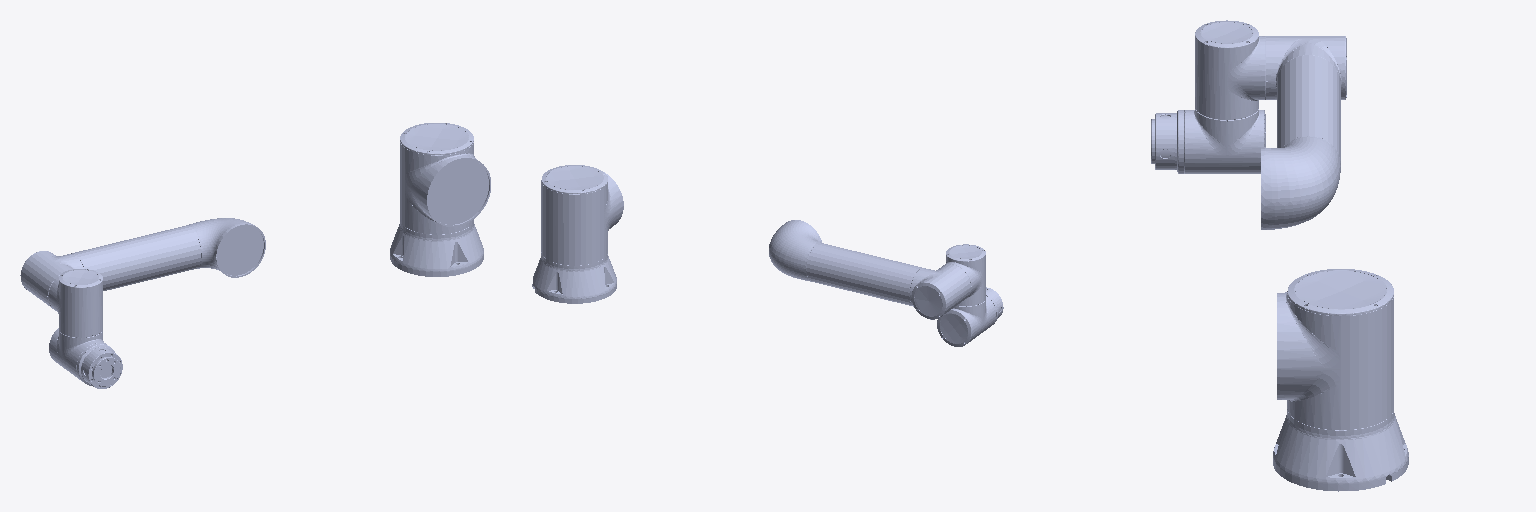
URDF robot description (fr16v6):
<robot name="fr16v6">

  <link name="world"/>

  <joint name="world_to_base" type="fixed">
    <parent link="world"/>
    <child link="base_link"/>
    <origin xyz="0 0 0" rpy="0 0 0"/>
  </joint>
<link
    name="base_link">
    <inertial>
      <origin
        xyz="-0.00017171 -0.00016075 0.041272"
        rpy="0 0 0" />
      <mass
        value="1.6231" />
      <inertia
        ixx="0.0039513"
        ixy="1.1032E-05"
        ixz="-1.0078E-05"
        iyy="0.0039509"
        iyz="-9.408E-06"
        izz="0.0063729" />
    </inertial>
    <visual>
      <origin
        xyz="0 0 0"
        rpy="0 0 0" />
      <geometry>
        <mesh
          filename="package://fr16v6_ros2_control/meshes/fr16/visual-v6.0/base_link.DAE" />
      </geometry>
      <material
        name="">
        <color
          rgba="0.79216 0.81961 0.93333 1" />
      </material>
    </visual>
    <collision>
      <origin
        xyz="0 0 0"
        rpy="0 0 0" />
      <geometry>
        <mesh
          filename="package://fr16v6_ros2_control/meshes/fr16/collision-v6.0/base_link.STL" />
      </geometry>
    </collision>
  </link>
  <link
    name="j1_Link">
    <inertial>
      <origin
        xyz="-0.0001 -0.02612 0.00404"
        rpy="0 0 0" />
      <mass
        value="11.97" />
      <inertia
        ixx="0.04607471"
        ixy="-0.00001041"
        ixz="-0.00009371"
        iyy="0.03493881"
        iyz="0.00133107"
        izz="0.04467851" />
    </inertial>
    <visual>
      <origin
        xyz="0 0 0"
        rpy="0 0 0" />
      <geometry>
        <mesh
          filename="package://fr16v6_ros2_control/meshes/fr16/visual-v6.0/j1_Link.DAE" />
      </geometry>
      <material
        name="">
        <color
          rgba="0.79216 0.81961 0.93333 1" />
      </material>
    </visual>
    <collision>
      <origin
        xyz="0 0 0"
        rpy="0 0 0" />
      <geometry>
        <mesh
          filename="package://fr16v6_ros2_control/meshes/fr16/collision-v6.0/j1_Link.STL" />
      </geometry>
    </collision>
  </link>
  <joint
    name="j1"
    type="revolute">
    <origin
      xyz="0 0 0"
      rpy="0 0 0" />
    <parent
      link="base_link" />
    <child
      link="j1_Link" />
    <axis
      xyz="0 0 1" />
    <limit
      lower="-3.0543"
      upper="3.0543"
      effort="635"
      velocity="3.15" />
    <calibration
      rising="0"
      falling="0" />
    <dynamics
      damping="0"
      friction="0" />
    <safety_controller
      soft_upper="0"
      soft_lower="0"
      k_position="0"
      k_velocity="0" />
  </joint>
  <link
    name="j2_Link">
    <inertial>
      <origin
        xyz="0.3604 0.00001 0.16309"
        rpy="0 0 0" />
      <mass
        value="18.18" />
      <inertia
        ixx="0.06025003"
        ixy="0.00036953"
        ixz="-0.01793051"
        iyy="0.97964166"
        iyz="-0.00005647"
        izz="0.96595344" />
    </inertial>
    <visual>
      <origin
        xyz="0 0 0"
        rpy="0 0 0" />
      <geometry>
        <mesh
          filename="package://fr16v6_ros2_control/meshes/fr16/visual-v6.0/j2_Link.DAE" />
      </geometry>
      <material
        name="">
        <color
          rgba="0.79216 0.81961 0.93333 1" />
      </material>
    </visual>
    <collision>
      <origin
        xyz="0 0 0"
        rpy="0 0 0" />
      <geometry>
        <mesh
          filename="package://fr16v6_ros2_control/meshes/fr16/collision-v6.0/j2_Link.STL" />
      </geometry>
    </collision>
  </link>
  <joint
    name="j2"
    type="revolute">
    <origin
      xyz="0 0 0.18"
      rpy="1.5708 0 0" />
    <parent
      link="j1_Link" />
    <child
      link="j2_Link" />
    <axis
      xyz="0 0 1" />
    <limit
      lower="-4.6251"
      upper="1.4835"
      effort="635"
      velocity="3.15" />
    <calibration
      rising="0"
      falling="0" />
    <dynamics
      damping="0"
      friction="0" />
    <safety_controller
      soft_upper="0"
      soft_lower="0"
      k_position="0"
      k_velocity="0" />
  </joint>
  <link
    name="j3_Link">
    <inertial>
      <origin
        xyz="0.13503 0.00012 0.05558"
        rpy="0 0 0" />
      <mass
        value="3.22" />
      <inertia
        ixx="0.00548752"
        ixy="0.00004221"
        ixz="0.00077648"
        iyy="0.08650512"
        iyz="0.0000072"
        izz="0.08588861" />
    </inertial>
    <visual>
      <origin
        xyz="0 0 0"
        rpy="0 0 0" />
      <geometry>
        <mesh
          filename="package://fr16v6_ros2_control/meshes/fr16/visual-v6.0/j3_Link.DAE" />
      </geometry>
      <material
        name="">
        <color
          rgba="0.79216 0.81961 0.93333 1" />
      </material>
    </visual>
    <collision>
      <origin
        xyz="0 0 0"
        rpy="0 0 0" />
      <geometry>
        <mesh
          filename="package://fr16v6_ros2_control/meshes/fr16/collision-v6.0/j3_Link.STL" />
      </geometry>
    </collision>
  </link>
  <joint
    name="j3"
    type="revolute">
    <origin
      xyz="-0.52 0 0"
      rpy="0 0 0" />
    <parent
      link="j2_Link" />
    <child
      link="j3_Link" />
    <axis
      xyz="0 0 1" />
    <limit
      lower="-2.8274"
      upper="2.8274"
      effort="332"
      velocity="3.15" />
    <calibration
      rising="0"
      falling="0" />
    <dynamics
      damping="0"
      friction="0" />
    <safety_controller
      soft_upper="0"
      soft_lower="0"
      k_position="0"
      k_velocity="0" />
  </joint>
  <link
    name="j4_Link">
    <inertial>
      <origin
        xyz="0.00012 -0.003 0.01218"
        rpy="0 0 0" />
      <mass
        value="1.69" />
      <inertia
        ixx="0.00248058"
        ixy="0.00001495"
        ixz="0.00002165"
        iyy="0.00239729"
        iyz="-0.00007228"
        izz="0.00180628" />
    </inertial>
    <visual>
      <origin
        xyz="0 0 0"
        rpy="0 0 0" />
      <geometry>
        <mesh
          filename="package://fr16v6_ros2_control/meshes/fr16/visual-v6.0/j4_Link.DAE" />
      </geometry>
      <material
        name="">
        <color
          rgba="0.79216 0.81961 0.93333 1" />
      </material>
    </visual>
    <collision>
      <origin
        xyz="0 0 0"
        rpy="0 0 0" />
      <geometry>
        <mesh
          filename="package://fr16v6_ros2_control/meshes/fr16/collision-v6.0/j4_Link.STL" />
      </geometry>
    </collision>
  </link>
  <joint
    name="j4"
    type="revolute">
    <origin
      xyz="-0.4 0 0"
      rpy="0 0 0" />
    <parent
      link="j3_Link" />
    <child
      link="j4_Link" />
    <axis
      xyz="0 0 1" />
    <limit
      lower="-4.6251"
      upper="1.4835"
      effort="110"
      velocity="3.2" />
    <calibration
      rising="0"
      falling="0" />
    <dynamics
      damping="0"
      friction="0" />
    <safety_controller
      soft_upper="0"
      soft_lower="0"
      k_position="0"
      k_velocity="0" />
  </joint>
  <link
    name="j5_Link">
    <inertial>
      <origin
        xyz="-0.00012 0.003 0.01218"
        rpy="0 0 0" />
      <mass
        value="1.69" />
      <inertia
        ixx="0.00248058"
        ixy="0.00001495"
        ixz="-0.00002165"
        iyy="0.00239729"
        iyz="0.00007228"
        izz="0.00180628" />
    </inertial>
    <visual>
      <origin
        xyz="0 0 0"
        rpy="0 0 0" />
      <geometry>
        <mesh
          filename="package://fr16v6_ros2_control/meshes/fr16/visual-v6.0/j5_Link.DAE" />
      </geometry>
      <material
        name="">
        <color
          rgba="0.79216 0.81961 0.93333 1" />
      </material>
    </visual>
    <collision>
      <origin
        xyz="0 0 0"
        rpy="0 0 0" />
      <geometry>
        <mesh
          filename="package://fr16v6_ros2_control/meshes/fr16/collision-v6.0/j5_Link.STL" />
      </geometry>
    </collision>
  </link>
  <joint
    name="j5"
    type="revolute">
    <origin
      xyz="0 0 0.159"
      rpy="1.5708 0 0" />
    <parent
      link="j4_Link" />
    <child
      link="j5_Link" />
    <axis
      xyz="0 0 1" />
    <limit
      lower="-3.0543"
      upper="3.0543"
      effort="110"
      velocity="3.2" />
    <calibration
      rising="0"
      falling="0" />
    <dynamics
      damping="0"
      friction="0" />
    <safety_controller
      soft_upper="0"
      soft_lower="0"
      k_position="0"
      k_velocity="0" />
  </joint>
  <link
    name="j6_Link">
    <inertial>
      <origin
        xyz="0.00124 0.00085 -0.02034"
        rpy="0 0 0" />
      <mass
        value="0.35" />
      <inertia
        ixx="0.00023661"
        ixy="-0.00000085"
        ixz="0.00000092"
        iyy="0.00023501"
        iyz="-0.00000154"
        izz="0.00036972" />
    </inertial>
    <visual>
      <origin
        xyz="0 0 0"
        rpy="0 0 0" />
      <geometry>
        <mesh
          filename="package://fr16v6_ros2_control/meshes/fr16/visual-v6.0/j6_Link.DAE" />
      </geometry>
      <material
        name="">
        <color
          rgba="0.79216 0.81961 0.93333 1" />
      </material>
    </visual>
    <collision>
      <origin
        xyz="0 0 0"
        rpy="0 0 0" />
      <geometry>
        <mesh
          filename="package://fr16v6_ros2_control/meshes/fr16/collision-v6.0/j6_Link.STL" />
      </geometry>
    </collision>
  </link>
  <joint
    name="j6"
    type="revolute">
    <origin
      xyz="0 0 0.114"
      rpy="-1.5708 0 0" />
    <parent
      link="j5_Link" />
    <child
      link="j6_Link" />
    <axis
      xyz="0 0 1" />
    <limit
      lower="-3.0543"
      upper="3.0543"
      effort="110"
      velocity="3.2" />
    <calibration
      rising="0"
      falling="0" />
    <dynamics
      damping="0"
      friction="0" />
    <safety_controller
      soft_upper="0"
      soft_lower="0"
      k_position="0"
      k_velocity="0" />
  </joint>
  <ros2_control name="GazeboSystem" type="system">
    <hardware>
      <plugin>gazebo_ros2_control/GazeboSystem</plugin>
    </hardware>
    <joint name="j1"><command_interface name="position"/><state_interface name="position"/><state_interface name="velocity"/></joint>
    <joint name="j2"><command_interface name="position"/><state_interface name="position"/><state_interface name="velocity"/></joint>
    <joint name="j3"><command_interface name="position"/><state_interface name="position"/><state_interface name="velocity"/></joint>
    <joint name="j4"><command_interface name="position"/><state_interface name="position"/><state_interface name="velocity"/></joint>
    <joint name="j5"><command_interface name="position"/><state_interface name="position"/><state_interface name="velocity"/></joint>
    <joint name="j6"><command_interface name="position"/><state_interface name="position"/><state_interface name="velocity"/></joint>
  </ros2_control>

  <gazebo>
    <plugin name="gazebo_ros2_control" filename="libgazebo_ros2_control.so">
      <robot_param>robot_description</robot_param>
      <parameters>package://fr16v6_ros2_control/config/robot_params.yaml</parameters>
    </plugin>
  </gazebo>
  <gazebo>
    <plugin name="joint_state_publisher" filename="libgazebo_ros_joint_state_publisher.so">
      <ros>
        <namespace>fr16v6</namespace>
        <remapping>joint_states:=joint_states</remapping>
      </ros>
      <update_rate>100</update_rate>
      <joint_name>j1</joint_name>
      <joint_name>j2</joint_name>
      <joint_name>j3</joint_name>
      <joint_name>j4</joint_name>
      <joint_name>j5</joint_name>
      <joint_name>j6</joint_name>
    </plugin>
  </gazebo>

</robot>

--- Render facts (derived) ---
3 views of the same robot in one strip: view 1: azimuth 30°, elevation 25°; view 2: azimuth 150°, elevation 25°; view 3: azimuth 270°, elevation 25° (orthographic).
Model fr16v6 with 8 links and 7 joints (6 revolute, 1 fixed), rooted at world, posed every joint at zero.
Visible links, largest first — view 1: j3_Link, j1_Link, base_link, j4_Link, j6_Link, j5_Link; view 2: j3_Link, j1_Link, base_link, j5_Link, j4_Link; view 3: j1_Link, j3_Link, base_link, j4_Link, j5_Link, j6_Link.
Link boxes in pixels (x1,y1,x2,y2): j3_Link: (20,218,265,308); j1_Link: (400,123,490,234); base_link: (390,222,483,276); j4_Link: (48,269,102,337); j6_Link: (77,343,122,388); j5_Link: (49,328,105,379); j3_Link: (769,220,970,319); j1_Link: (541,165,623,265); base_link: (532,252,616,303); j5_Link: (937,296,995,346); j4_Link: (943,244,985,306); j1_Link: (1277,269,1393,429); j3_Link: (1261,36,1346,229); base_link: (1273,409,1408,491); j4_Link: (1195,20,1265,119); j5_Link: (1184,109,1265,173); j6_Link: (1151,110,1183,173).
Size in the robot's own frame: 1.06 by 0.36 by 0.2667 metres.
Meshes: 7 distinct files referenced, 6 mesh visuals loaded (6 Collada DAE); not drawn: 1 (reference not matched to a file when rendering).
